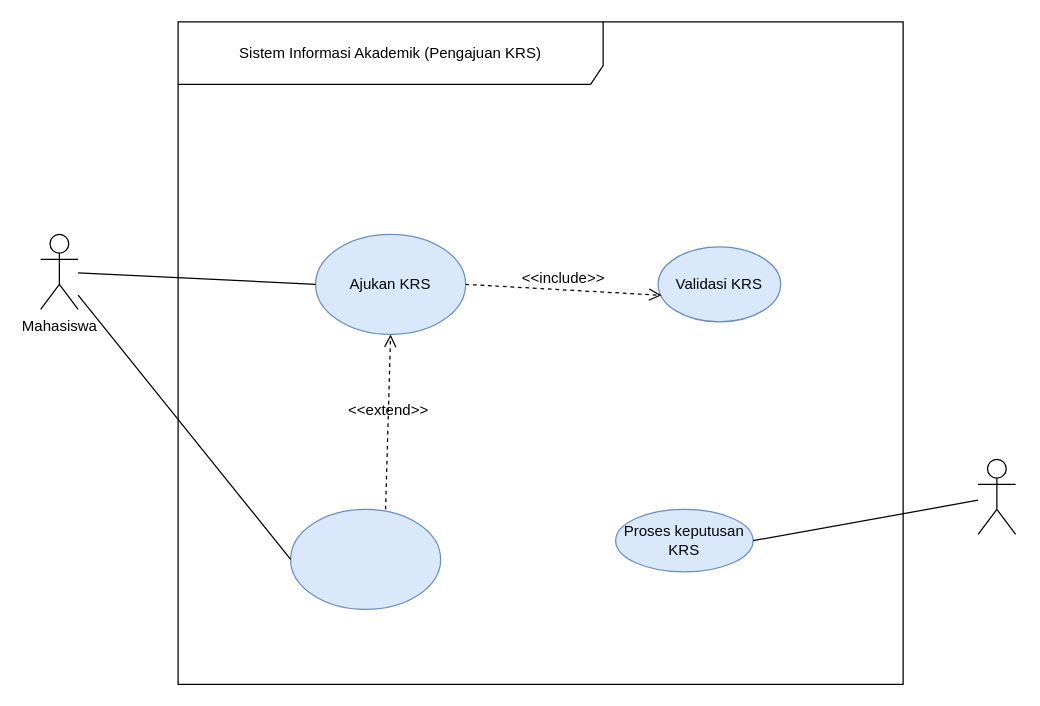
This 1040x706 diagram has some shape labels left out. Each missing label, with the centre of its shape:
"Dosen Wali" goes at [996,496].
"Unduh bukti pengajuan KRS" goes at [365,558].
